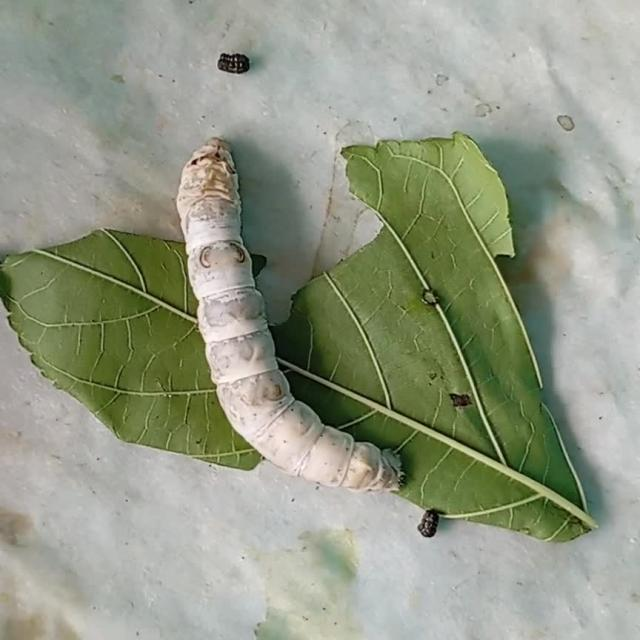Grasserie: (163, 119, 414, 500)
